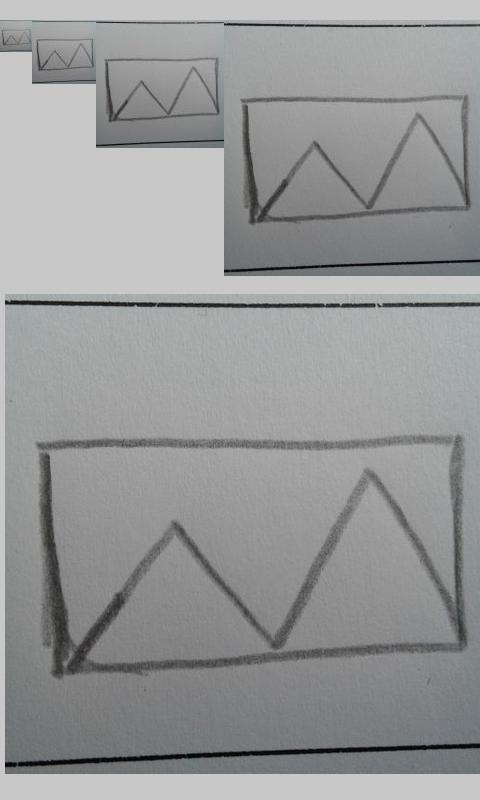image_view: (40, 436, 472, 678), (240, 94, 470, 223), (104, 57, 221, 122), (36, 38, 94, 71), (1, 28, 32, 46)
